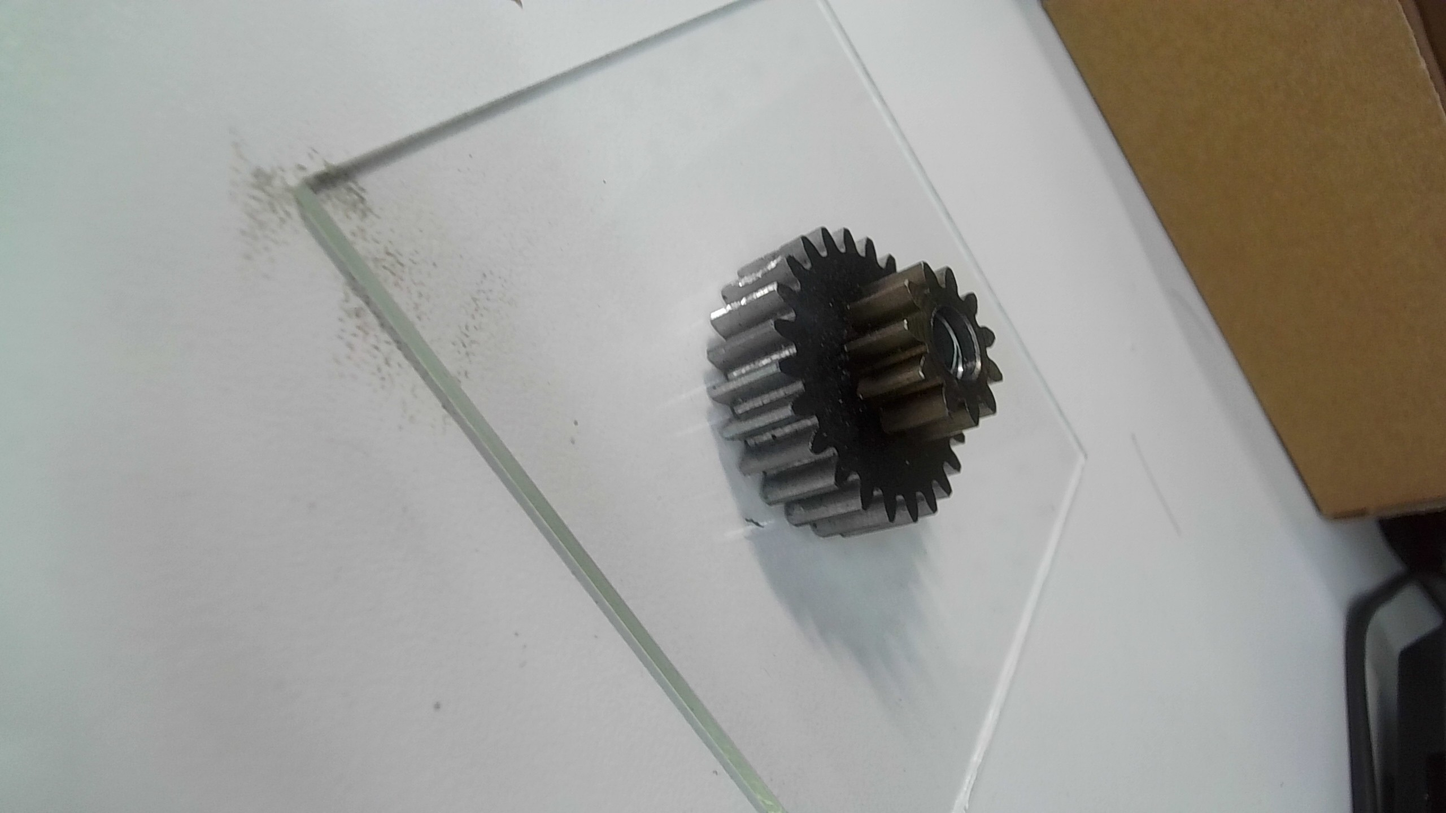gear: (707, 225, 1009, 548)
